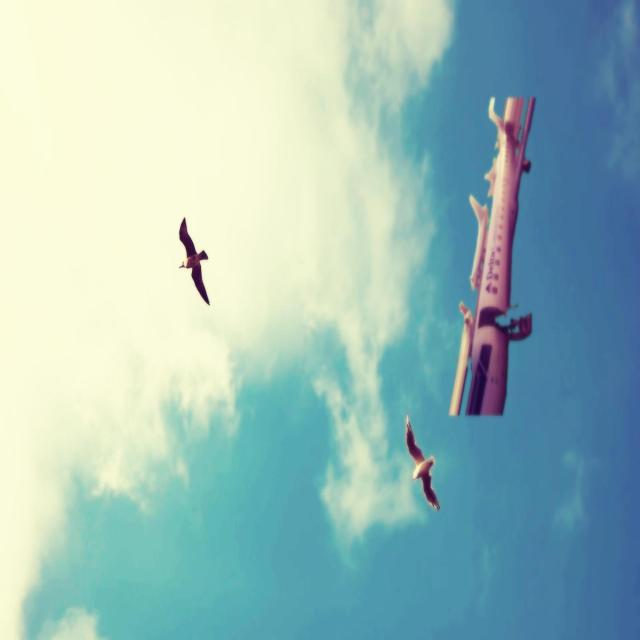airplane: (448, 94, 536, 416)
